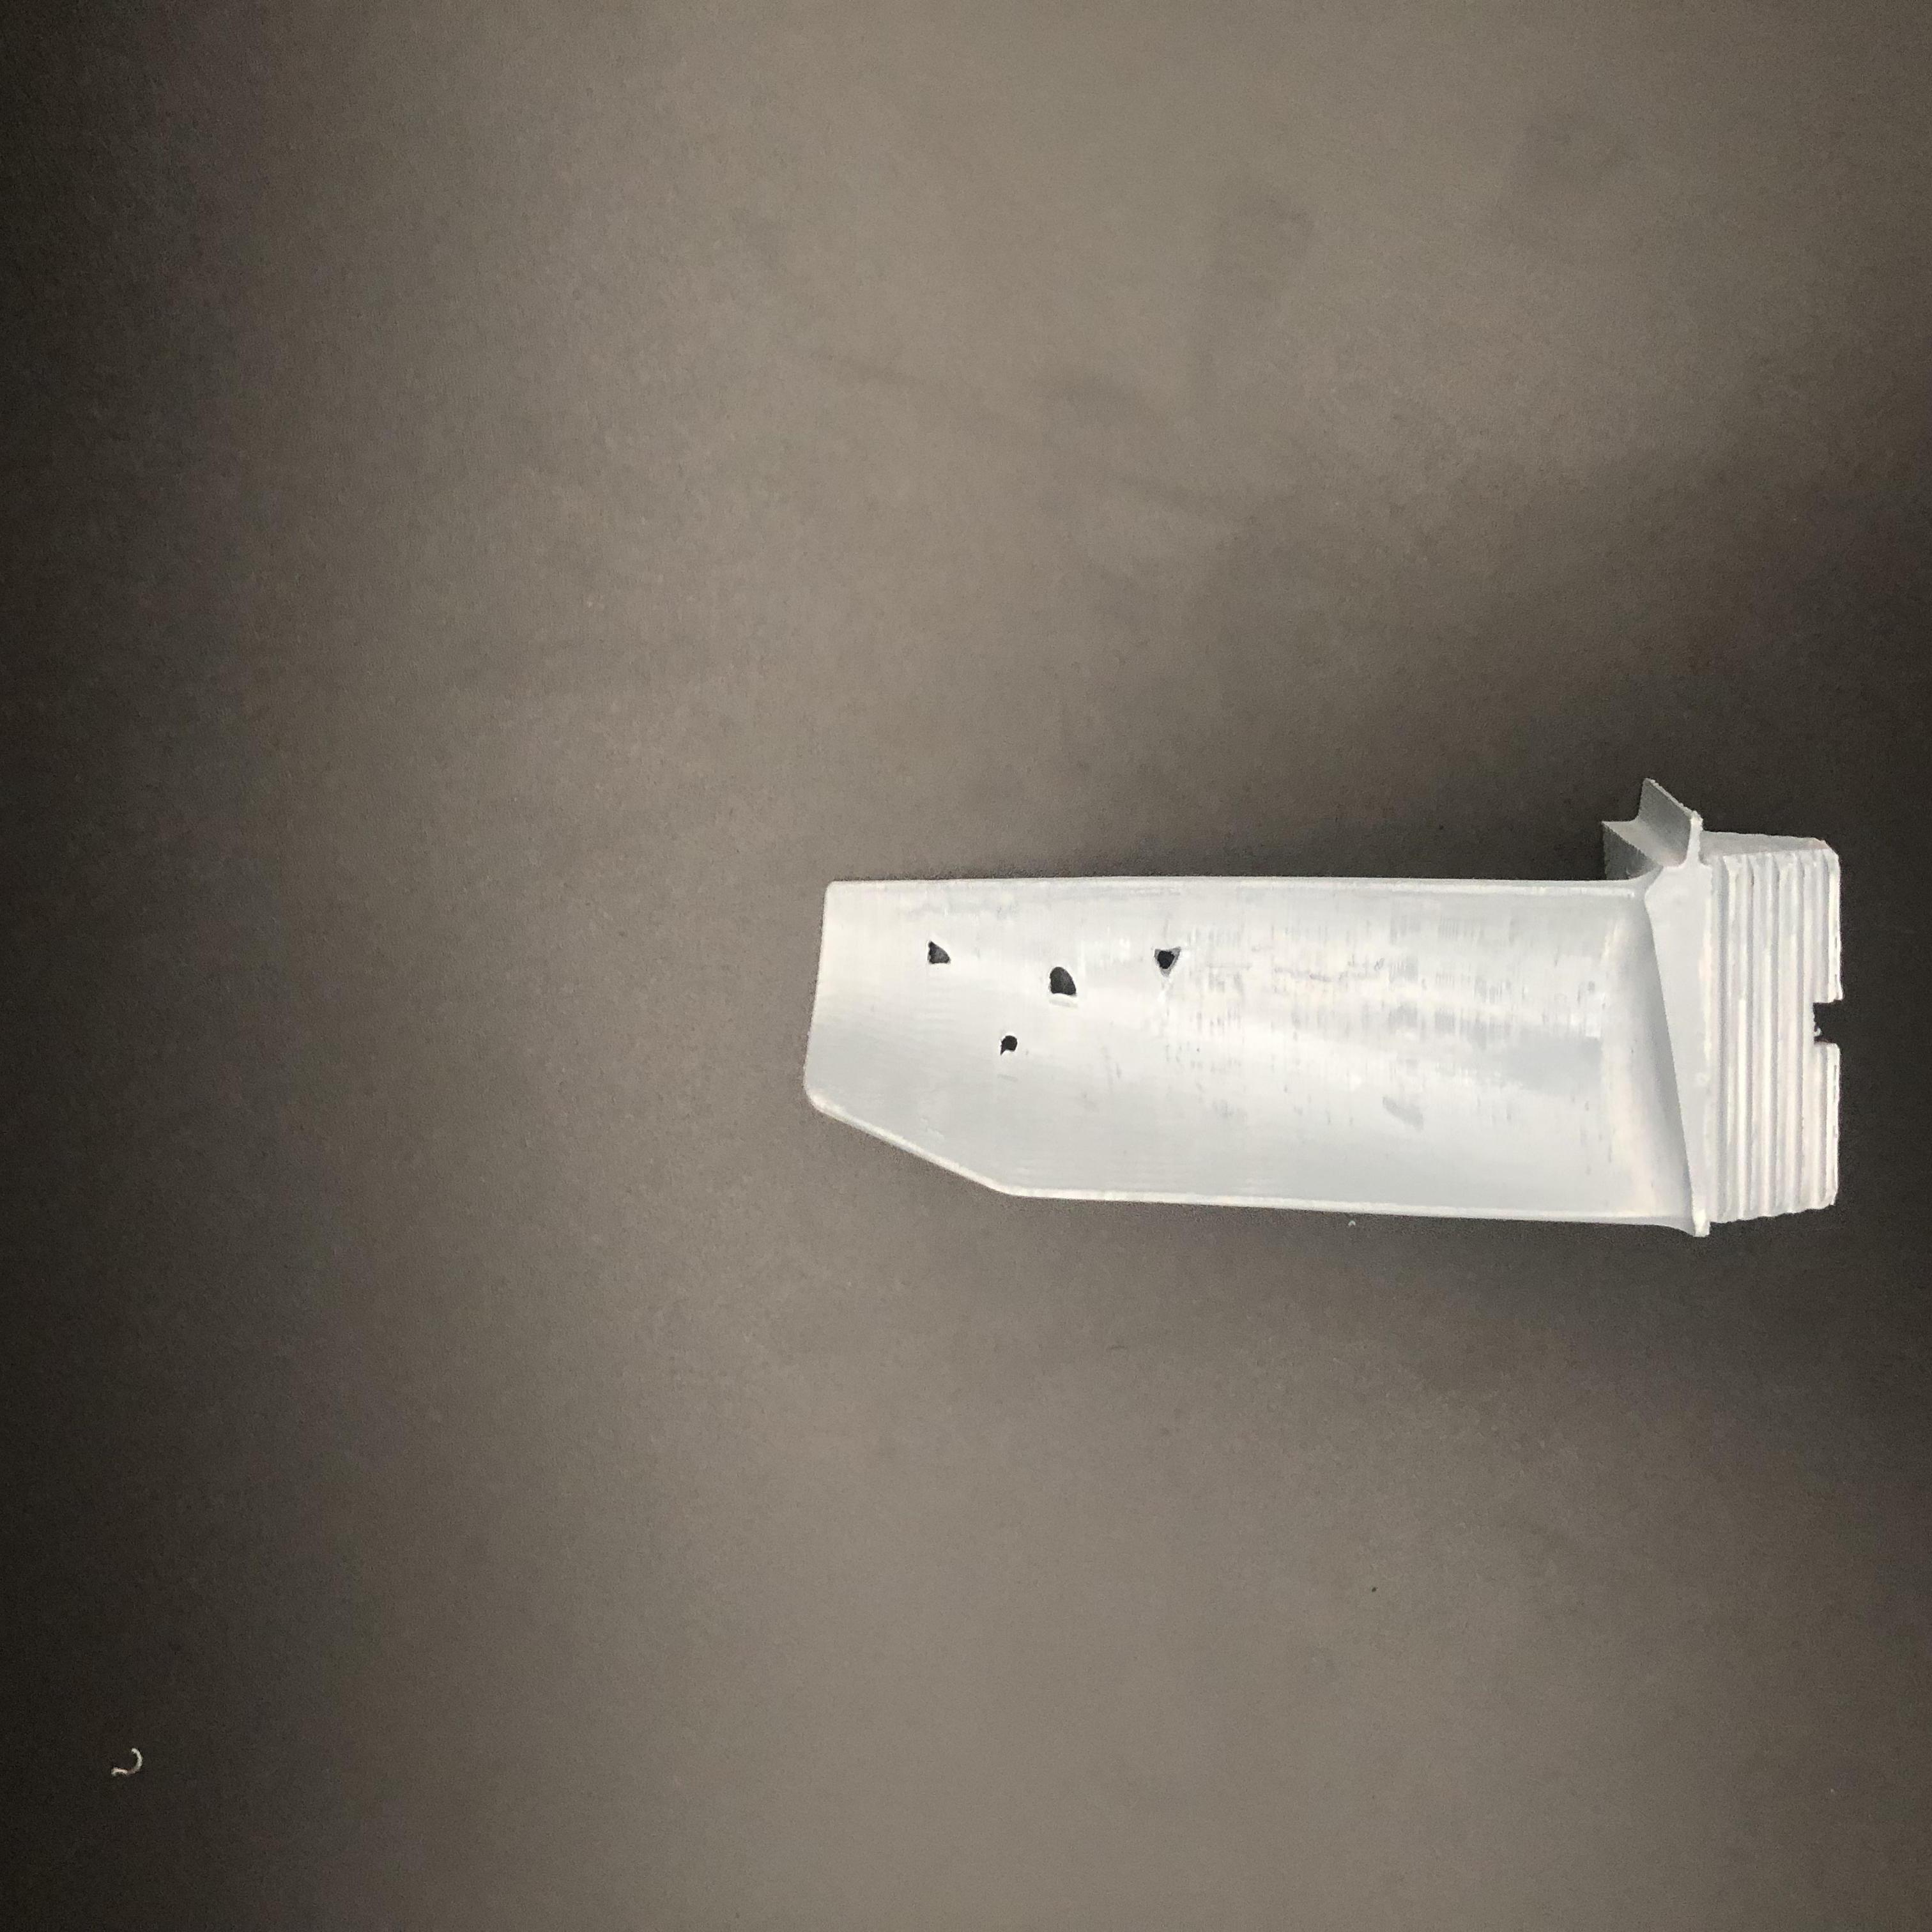breakdown: (913, 936, 1184, 1063)
